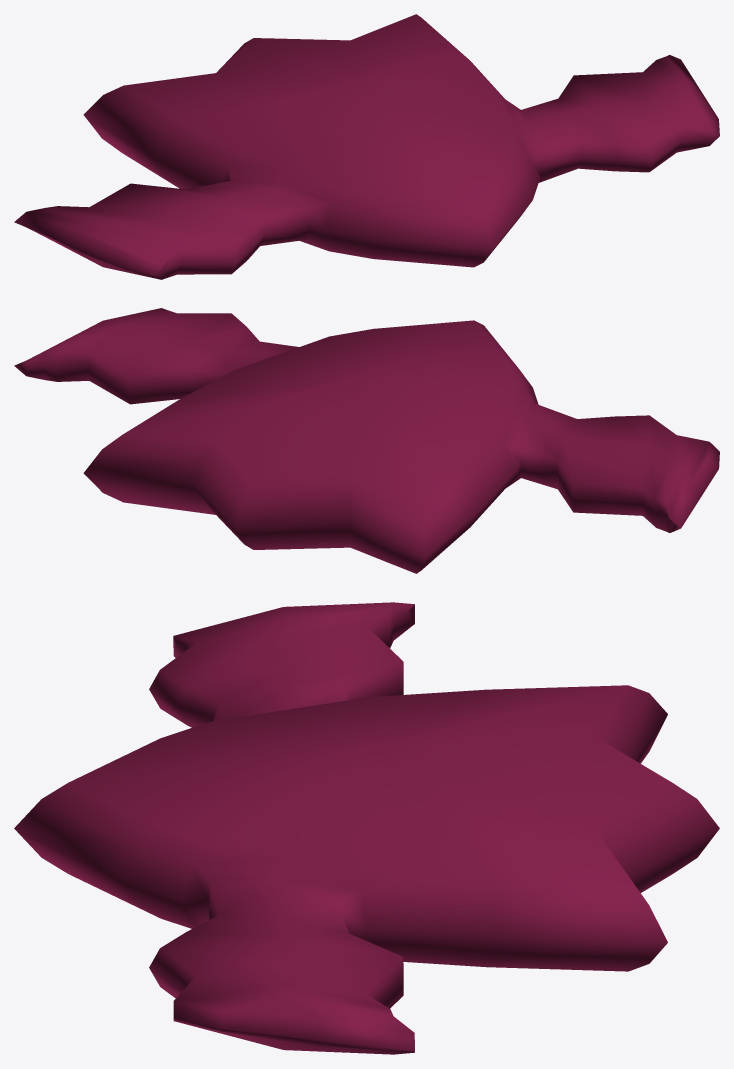
The model's file is devilstar.fbx.
3 views of the same model, one above another, from view 1: azimuth 30°, elevation 25°; view 2: azimuth 150°, elevation 25°; view 3: azimuth 270°, elevation 25° (orthographic). The views are drawn at different scales.
Parts seen in each view (by area): view 1: 円; view 2: 円; view 3: 円.
Boxes of the visible parts, box(x1,y1,x2,y2) form: 円: box(14, 14, 719, 279); 円: box(14, 308, 719, 573); 円: box(14, 602, 719, 1054).
Size of the model in its own units: 380 by 64.95 by 255.
